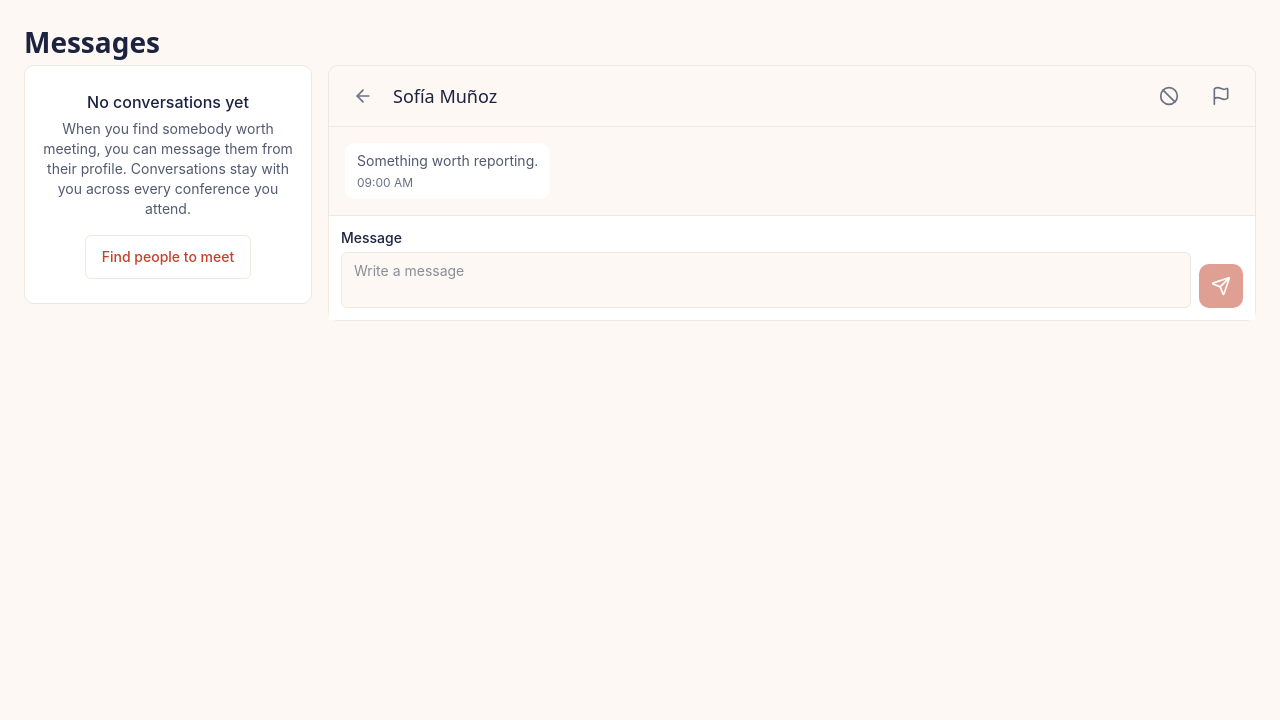
Scenario: the report dialog › DISABLES its confirmation while the reason is empty (FR-546)
Click the button named "report sofía muñoz": click(1221, 96) [1199,74,1243,118]
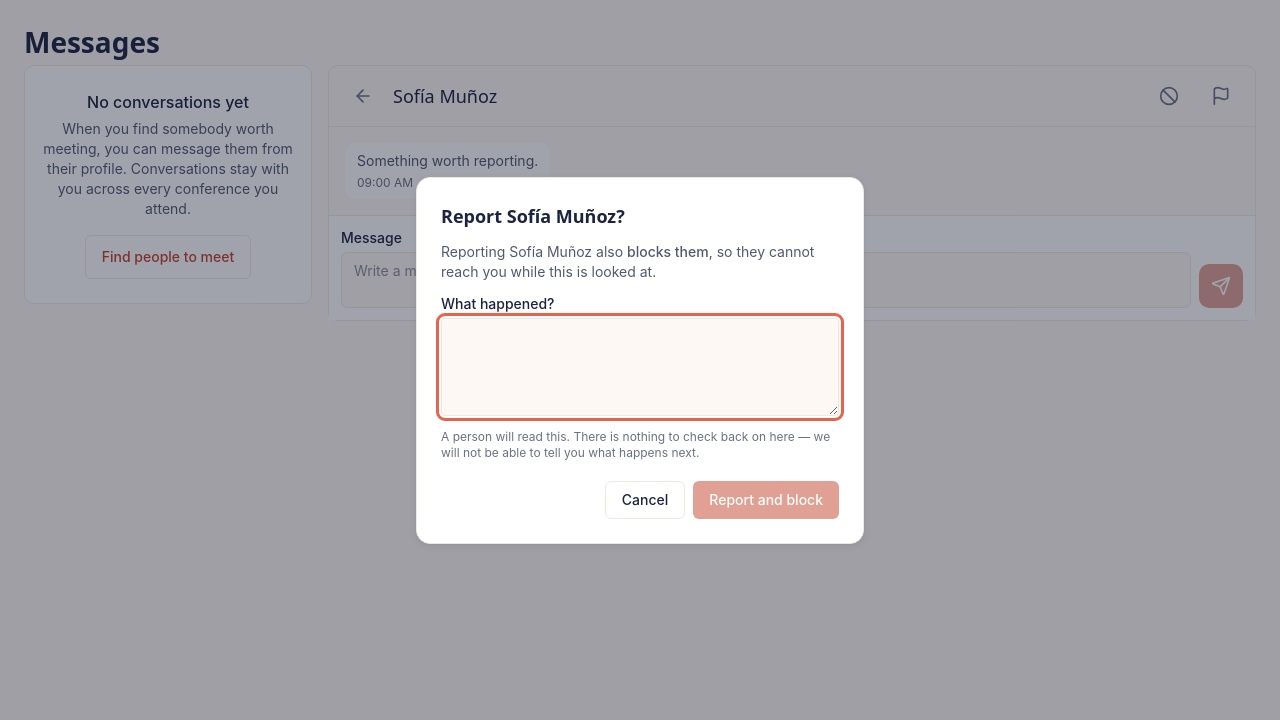
Expected: the button "Report and block" is disabled, [693,480,839,518]
